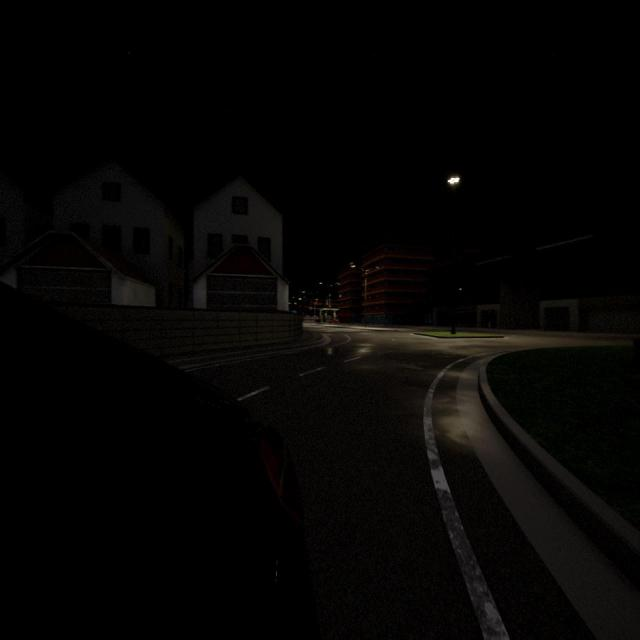Vehicle: (0, 294, 312, 638), (328, 318, 339, 324)
